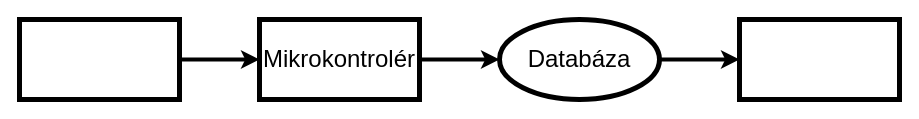
Image size: 919x119. Some labels were removed from this diagram. The shapes that lost their labels are listed below. From the top down, each one's centre as x and y in pixels, then its label:
the point at 99,59: Vstupné senzory
the point at 819,59: Mobilná aplikácia
